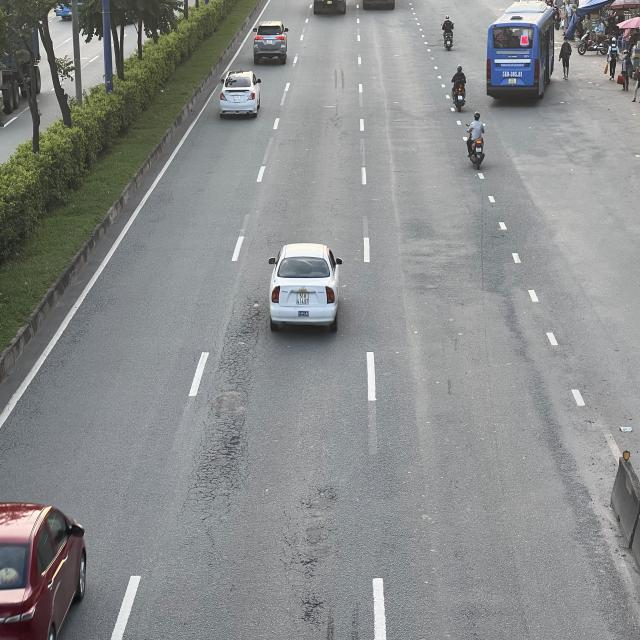car: (0, 502, 87, 638), (268, 244, 342, 333), (217, 69, 259, 116), (255, 20, 290, 65)
coach: (488, 4, 558, 101)
